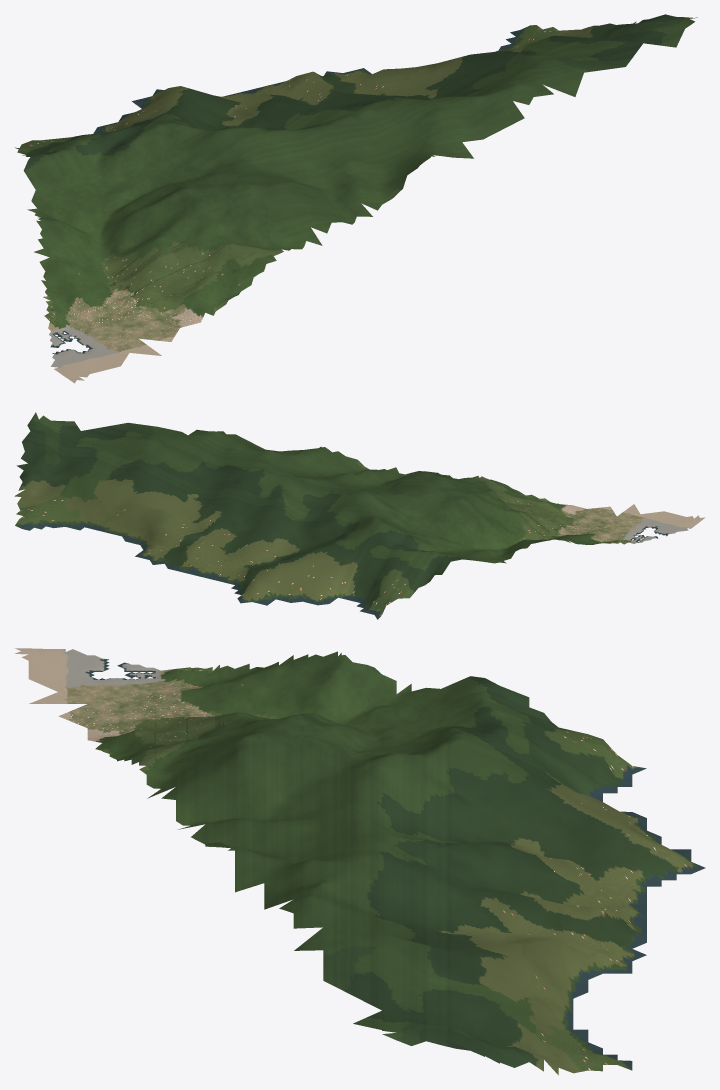
Rendered from SM_Fondale_Colline_O_LOD1.fbx.
3 views of the same model, one above another, from view 1: azimuth 30°, elevation 25°; view 2: azimuth 150°, elevation 25°; view 3: azimuth 270°, elevation 25° (orthographic). The views are drawn at different scales.
Parts seen in each view (by area): view 1: SM_Fondale_Colline_O_LOD1; view 2: SM_Fondale_Colline_O_LOD1; view 3: SM_Fondale_Colline_O_LOD1.
Boxes of the visible parts, bbox=[...] form: SM_Fondale_Colline_O_LOD1: bbox=[15, 14, 697, 383]; SM_Fondale_Colline_O_LOD1: bbox=[14, 412, 705, 619]; SM_Fondale_Colline_O_LOD1: bbox=[14, 648, 705, 1075].
Size of the model in its own units: 900000 by 564000 by 79443.
Materials: 1 (1 with a texture image).
